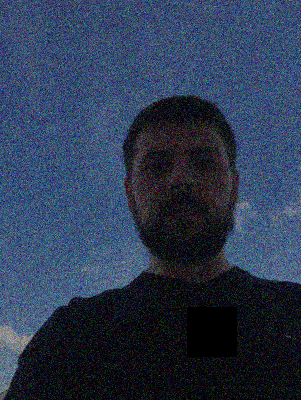without_mask: (132, 141, 232, 264)
